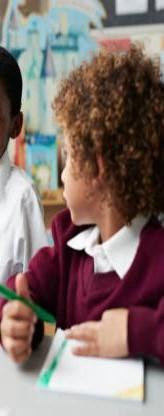cheating: (47, 36, 164, 414)
